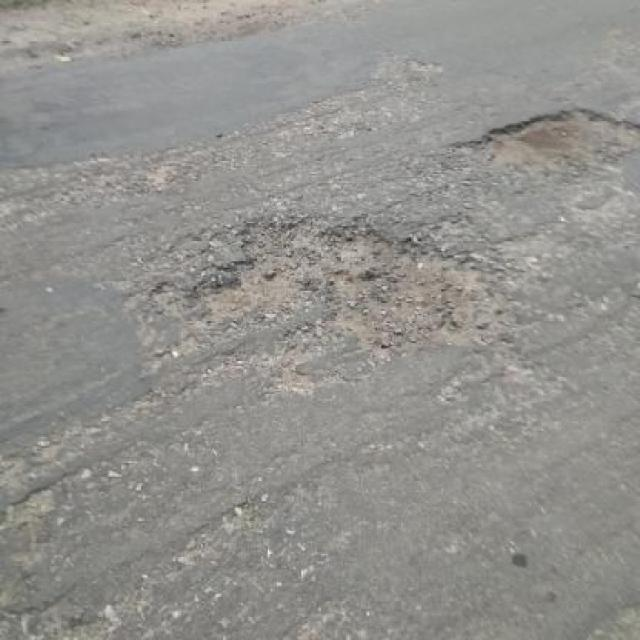Pothole: (147, 206, 498, 354), (449, 104, 639, 178)
